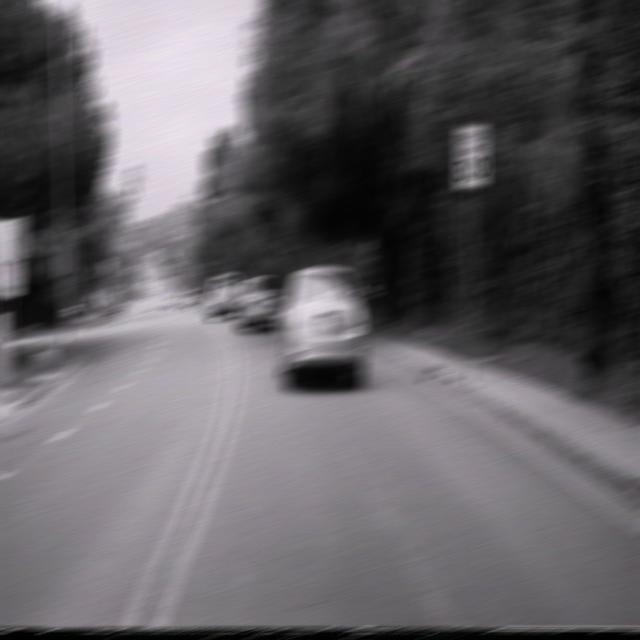speedLimit30: (454, 123, 488, 188)
